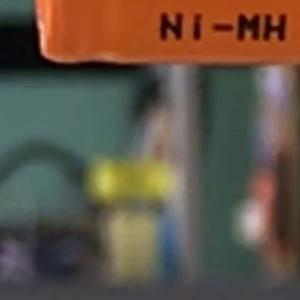NI-MH: (150, 5, 296, 50)
